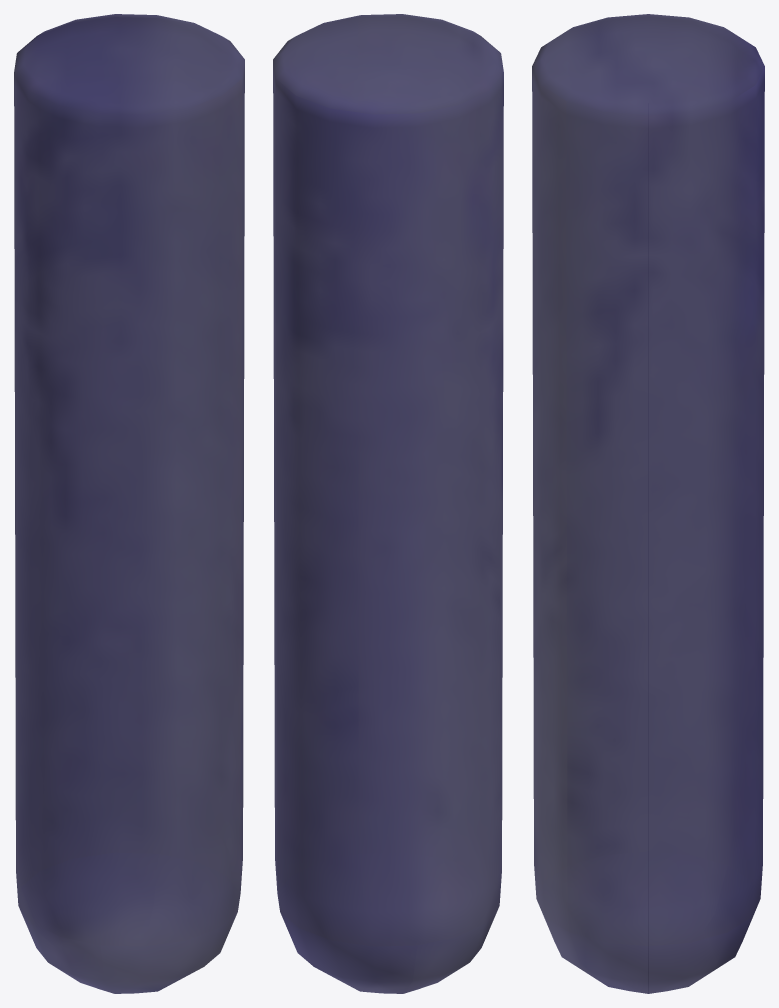
Rendered from test_tube_content_a.glb.
The picture shows the model from 3 angles, left to right: view 1: azimuth 30°, elevation 25°; view 2: azimuth 150°, elevation 25°; view 3: azimuth 270°, elevation 25°; orthographic projection.
Visible parts, largest first — view 1: chemistry_set_test_tube_content_a.001; view 2: chemistry_set_test_tube_content_a.001; view 3: chemistry_set_test_tube_content_a.001.
Part boxes in pixels (x1,y1,x2,y2): chemistry_set_test_tube_content_a.001: (14, 14, 244, 993); chemistry_set_test_tube_content_a.001: (273, 14, 503, 993); chemistry_set_test_tube_content_a.001: (532, 14, 764, 993).
Size of the model in its own units: 0.0127 by 0.0551 by 0.0127.
1 material, 1 textured.
